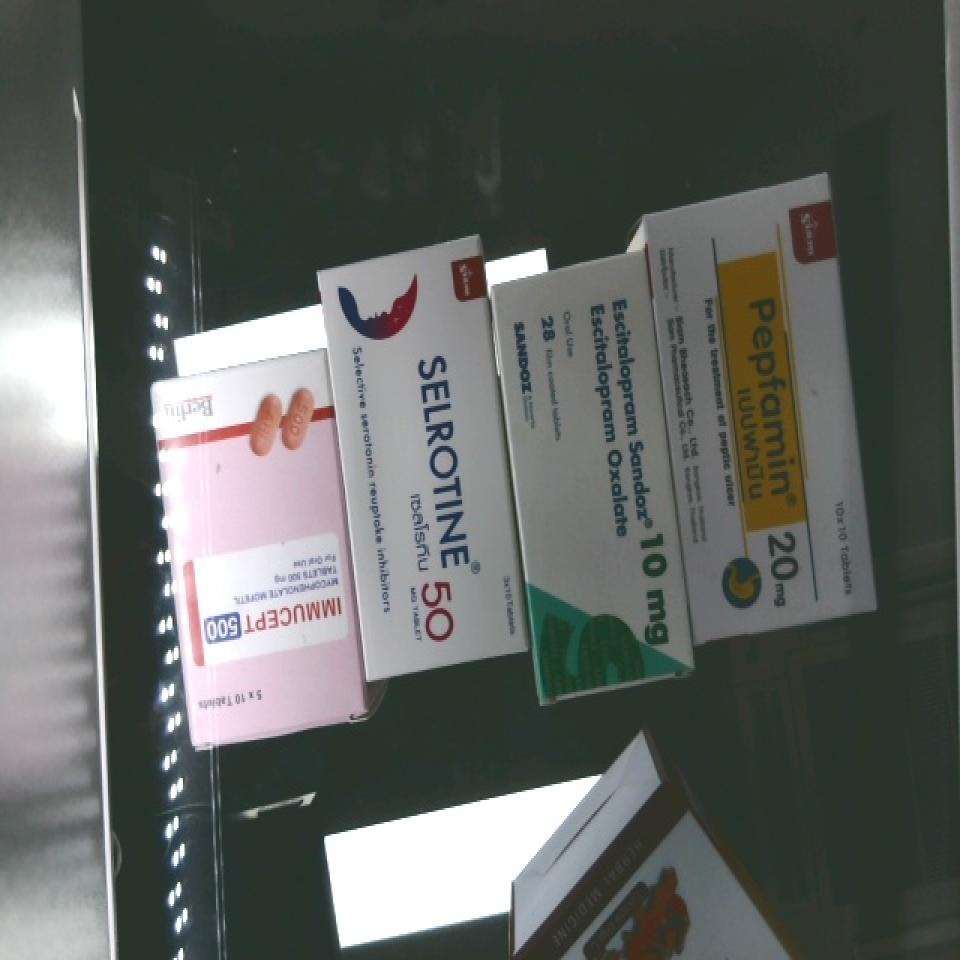medicine_box: (642, 176, 878, 638), (303, 234, 535, 682), (490, 247, 697, 702), (149, 350, 370, 748), (509, 770, 800, 958)
medicine_label_obb: (573, 281, 688, 675), (719, 254, 827, 626), (375, 338, 489, 661), (189, 574, 356, 665)
